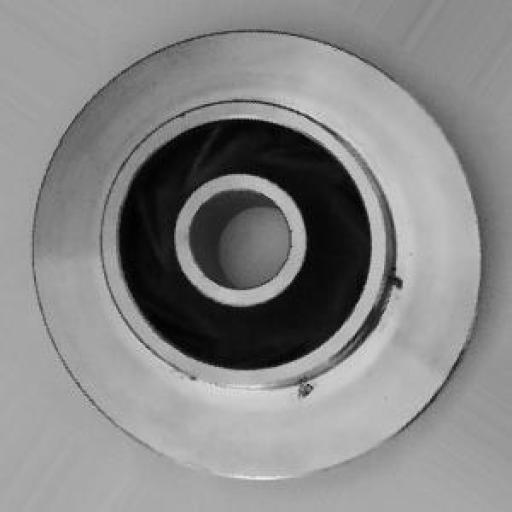defect: (282, 268, 414, 408)
